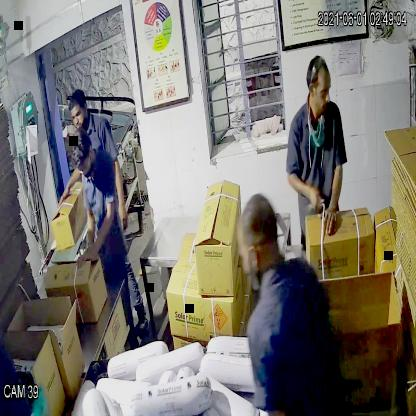no_goggles: (307, 80, 334, 104)
